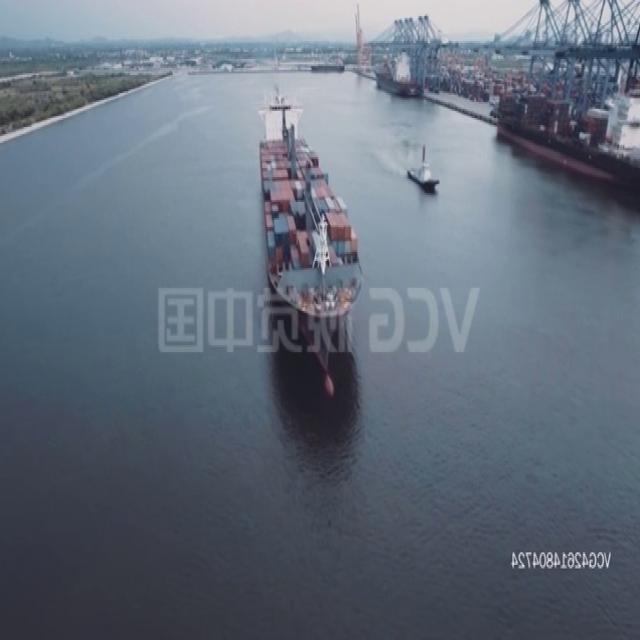cargoship: (255, 89, 369, 399)
houseboat: (406, 141, 441, 187)
